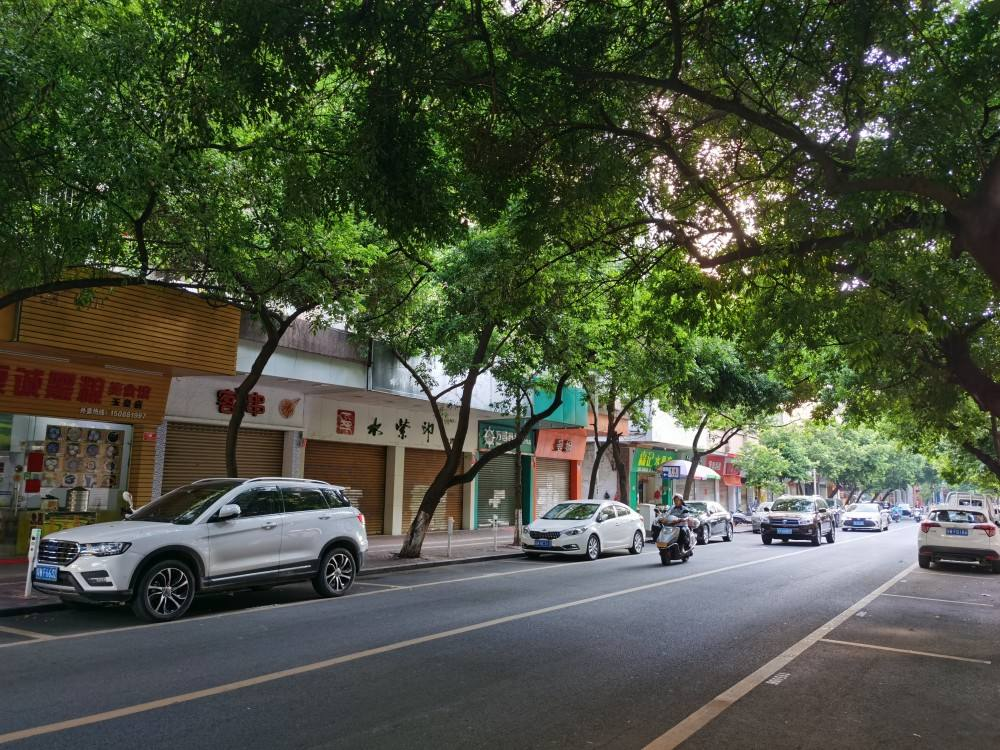slot_nocar: (591, 628, 1000, 747), (785, 579, 999, 672), (349, 544, 569, 594), (871, 560, 1000, 619)
